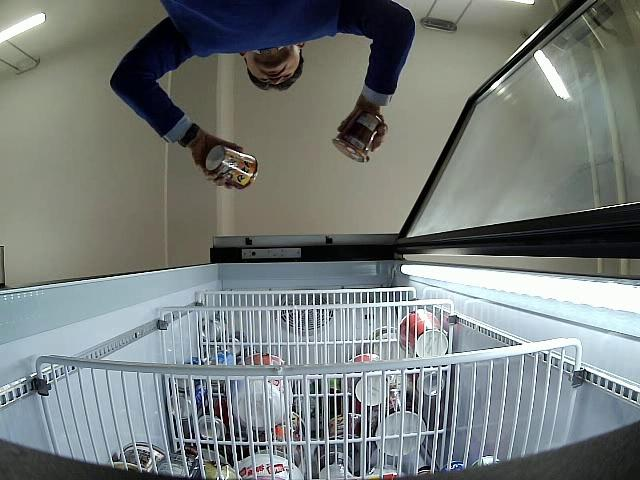00_hand: (193, 134, 245, 191), (337, 107, 387, 152)
06_nuguri_S: (332, 108, 384, 163), (205, 145, 259, 189)
